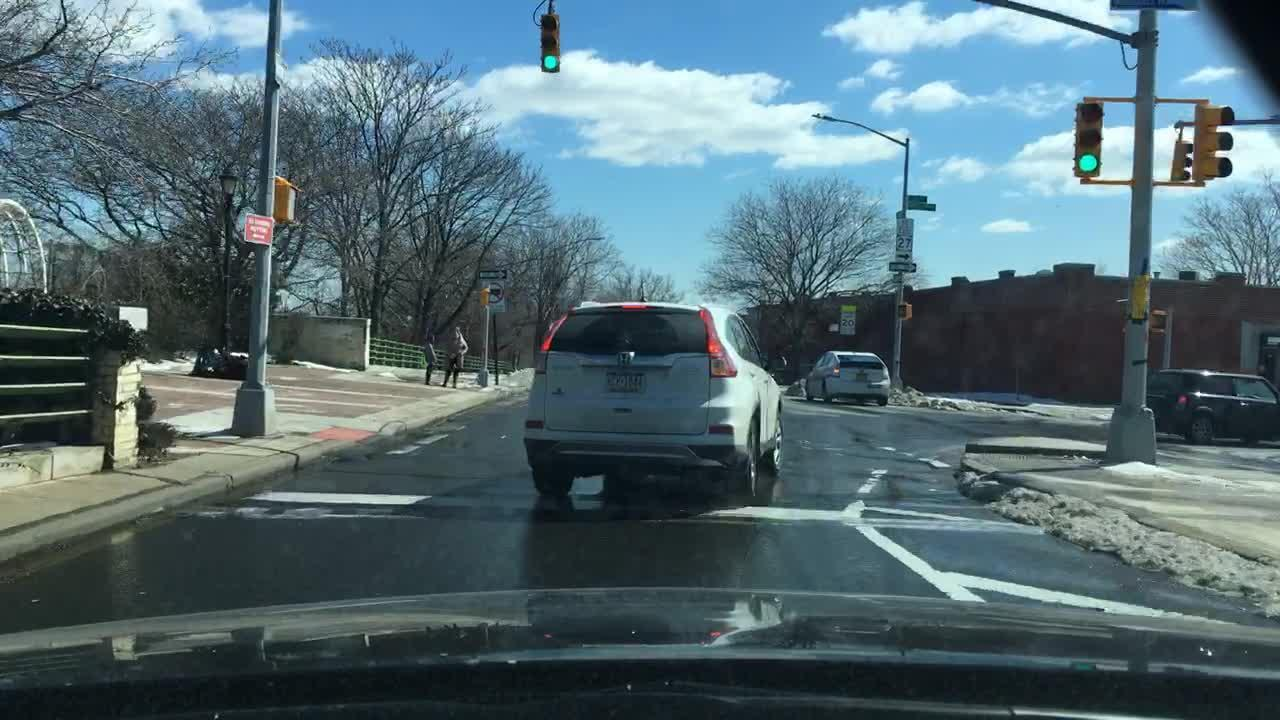Honda: (611, 348, 640, 371)
